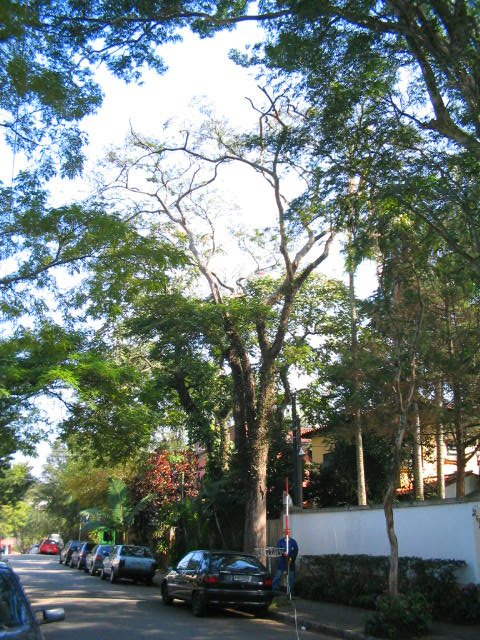stem: (230, 434, 278, 597)
stick: (280, 476, 294, 598)
tree: (112, 98, 346, 597)
